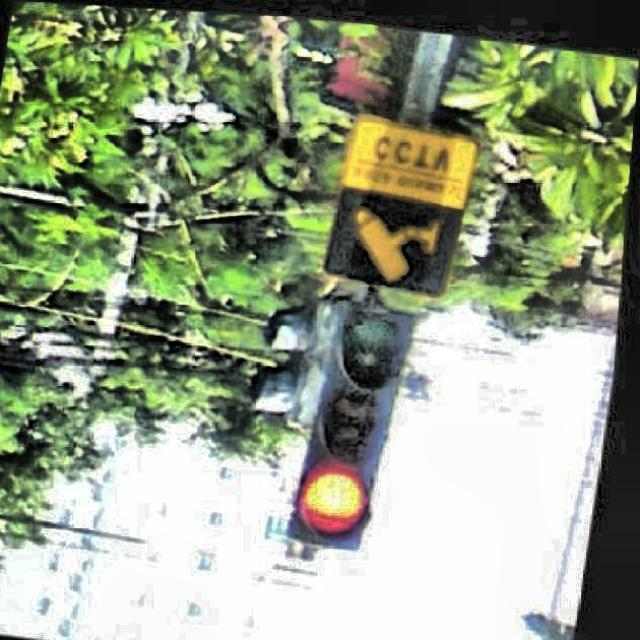red: (286, 298, 420, 552)
